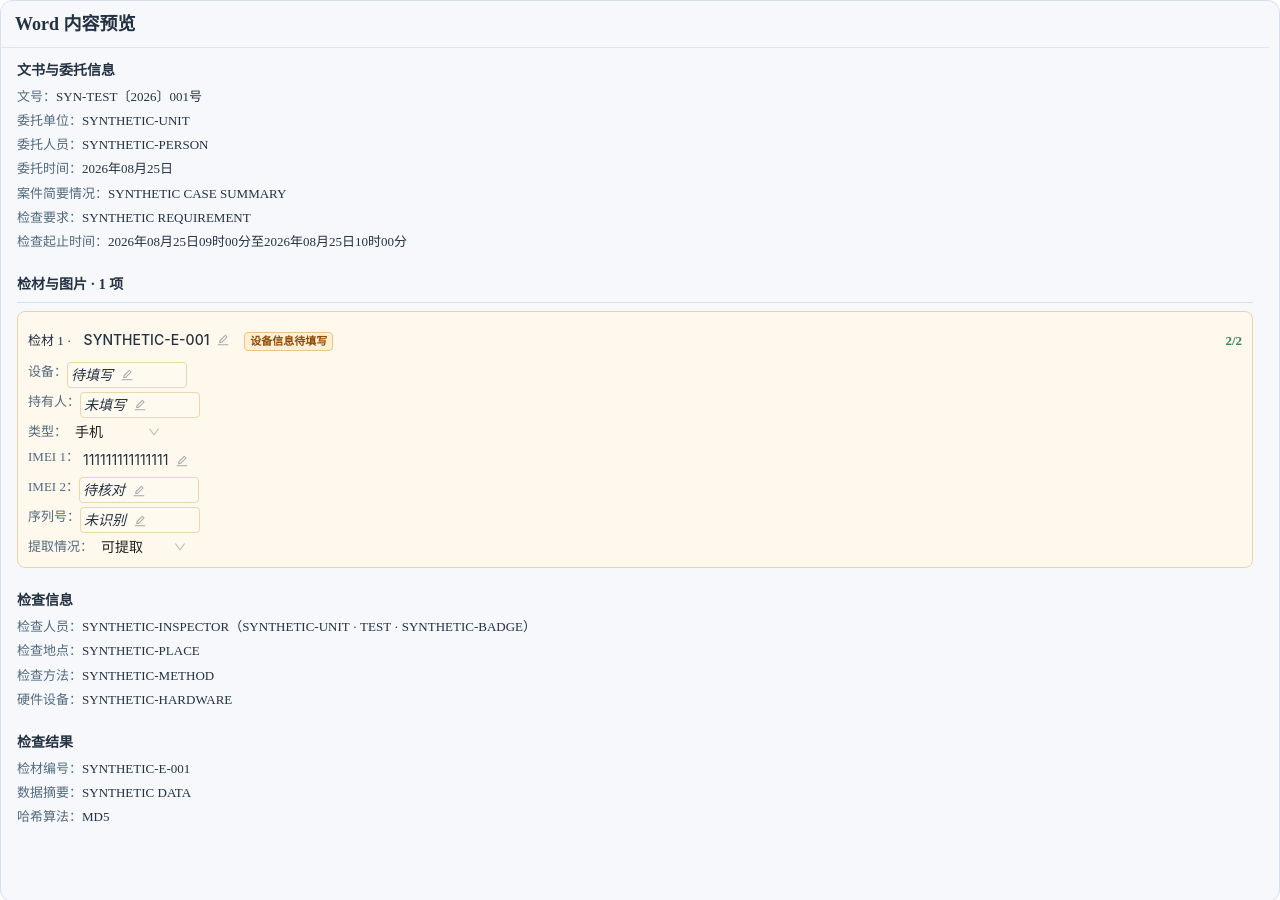
Test: GuidedReviewHistory IMEI grouping › moves an attention material into the complete group as soon as its missing information is filled
Expected: the text "检材信息完整（1项）" is not shown
Expected: the text "设备信息待填写" is shown, [244,332,333,351]
Click the button with aria-label "待填写，按 Enter 编辑". click: click(127, 375)
box: [67,362,187,388]
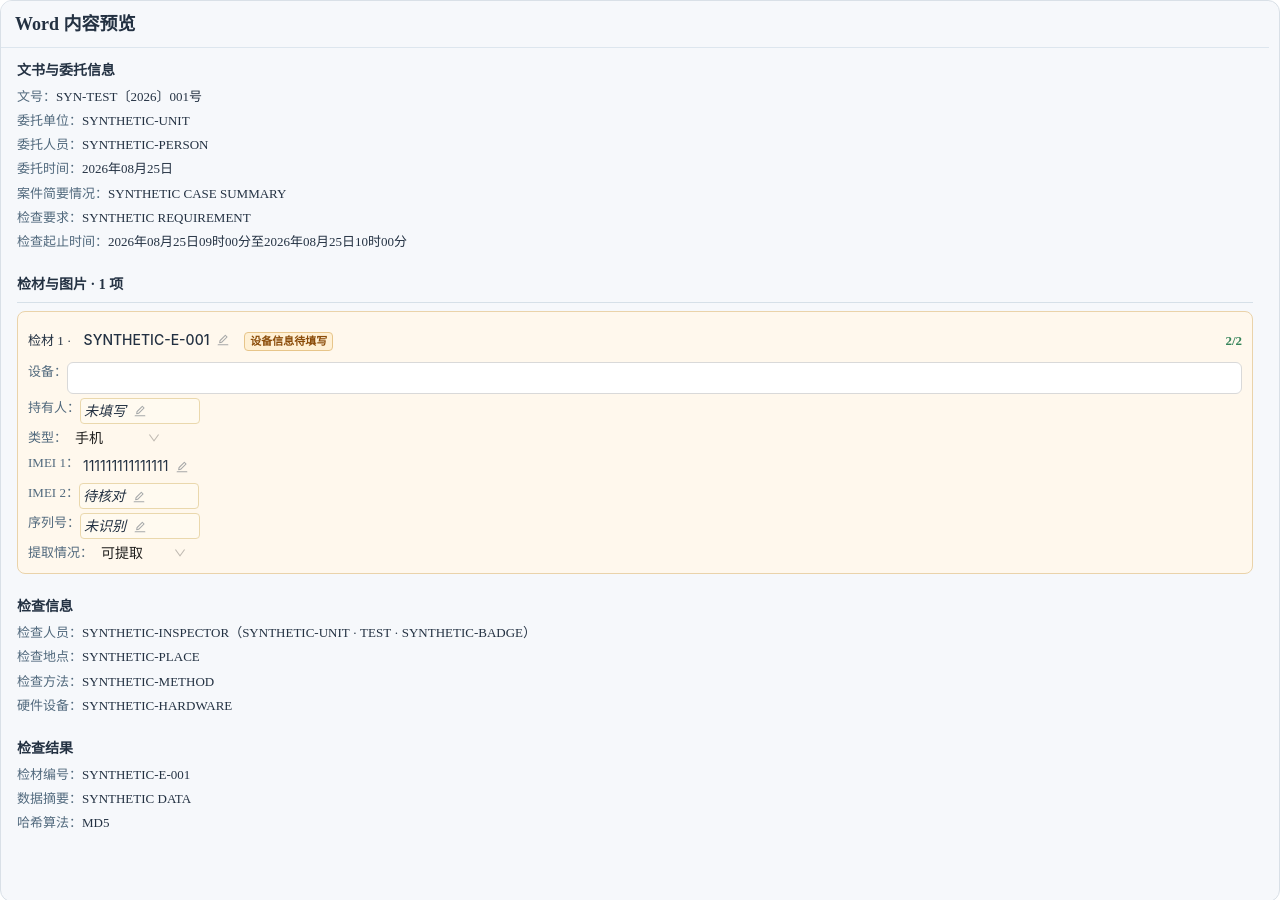
Type "SYNTHETIC Phone" into the field. click: (654, 378)
box: [67,362,1242,394]
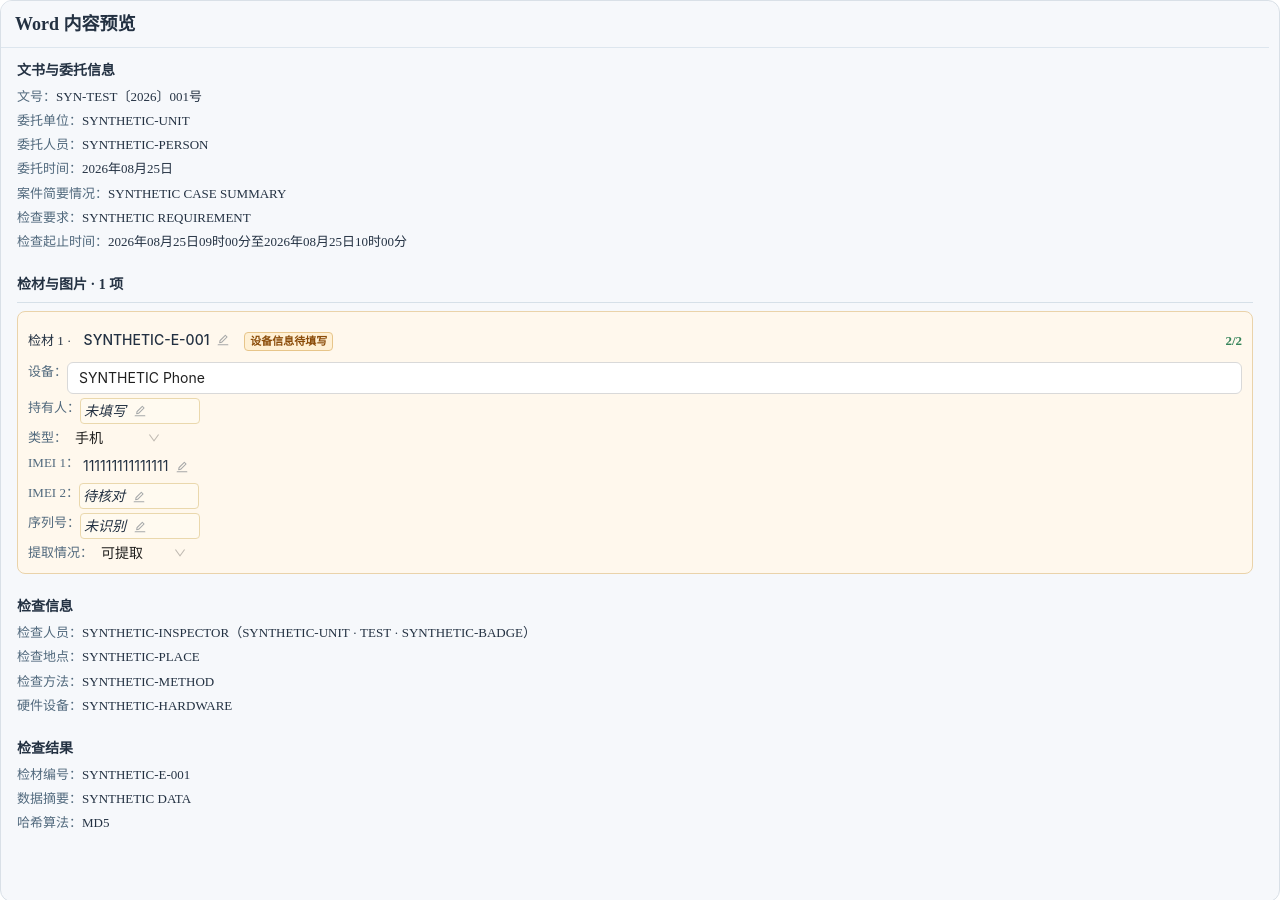
Leave the field, box [67,362,1242,394]
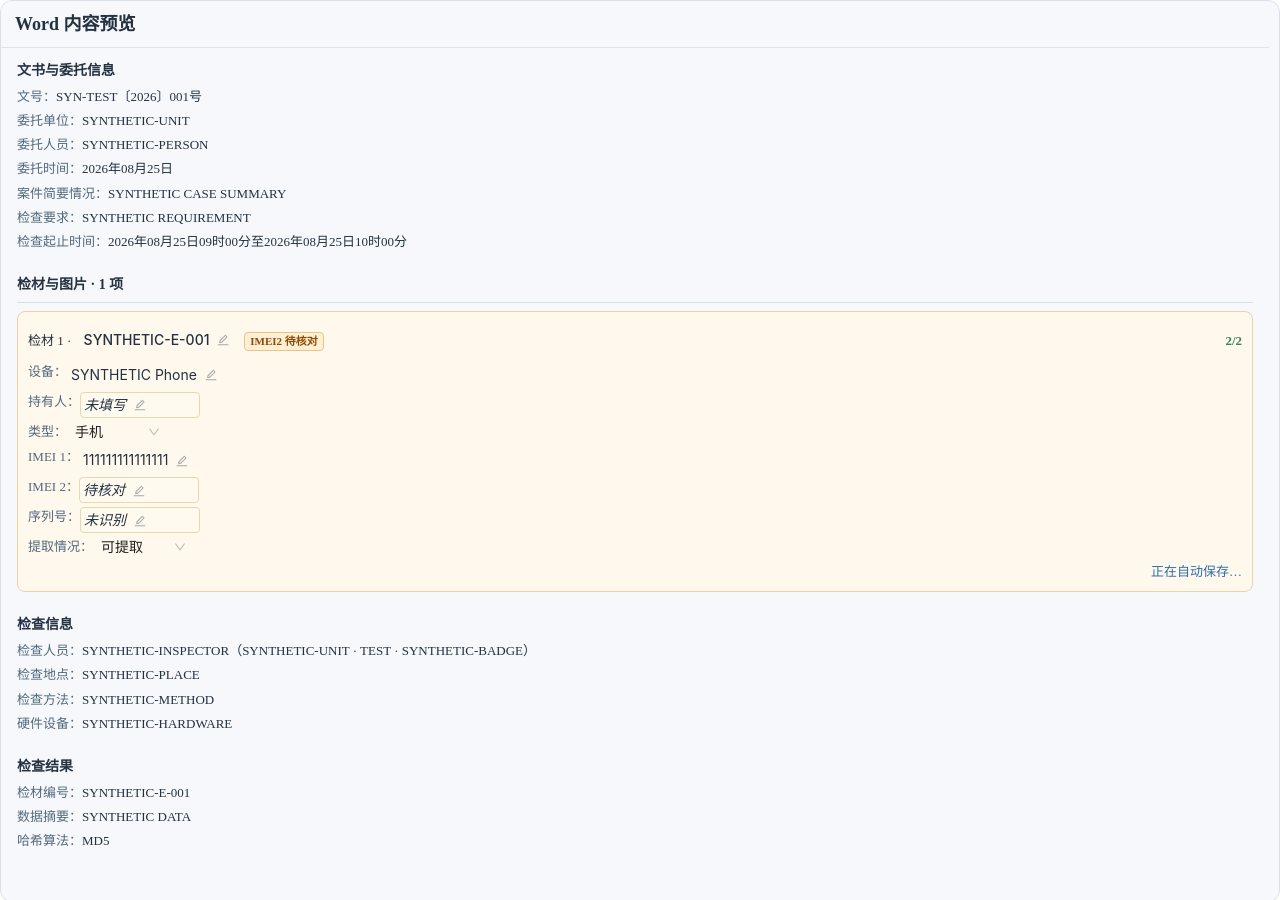
Expected: the text "检材信息完整（1项）" is not shown
Now the text "IMEI2 待核对" is shown, box [244,332,324,351]
Click the button with aria-label "待核对，按 Enter 编辑". click: click(139, 490)
box: [79,477,199,503]
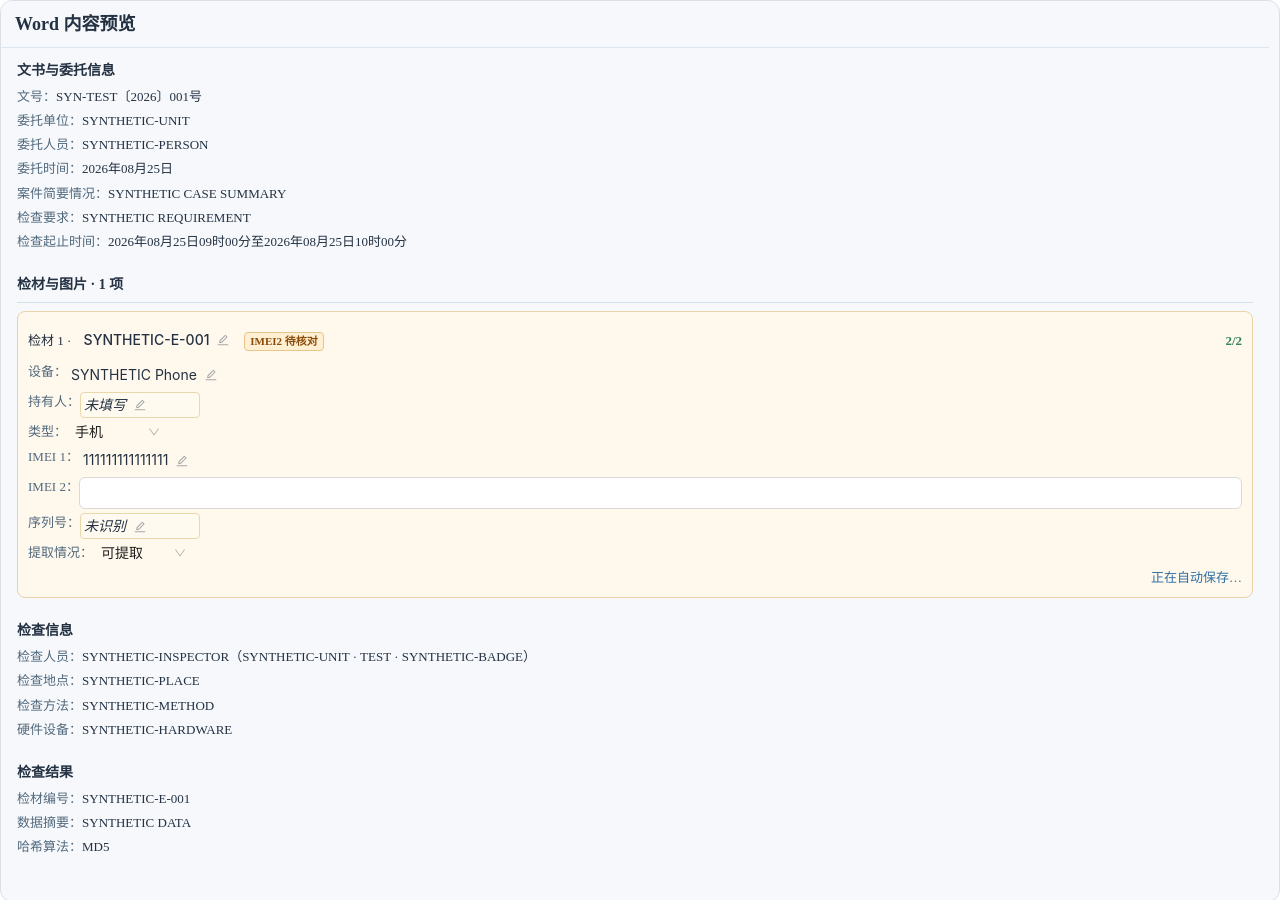
Type "222222222222222" into the field. click: (660, 493)
box: [79,477,1242,509]
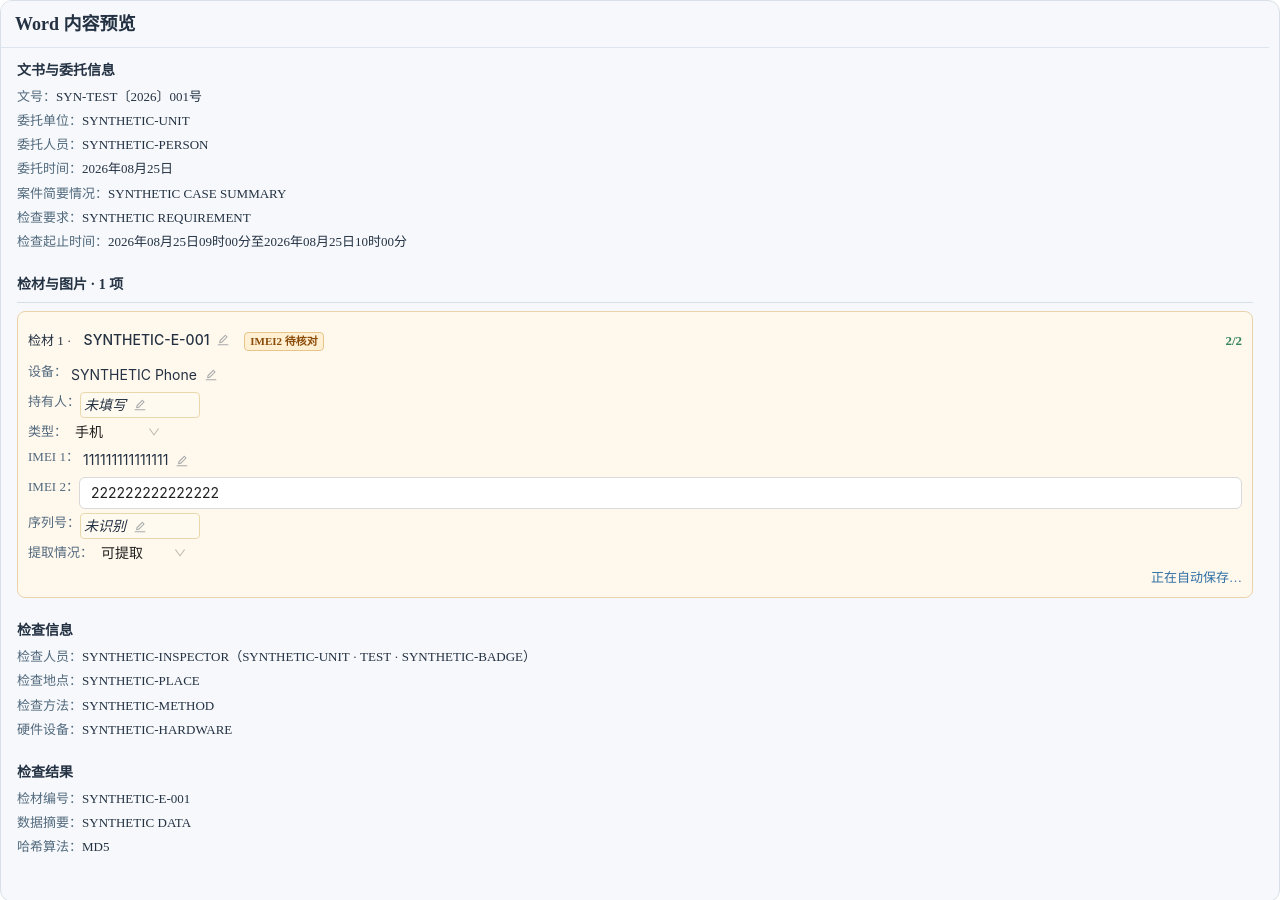
Leave the field, box [79,477,1242,509]
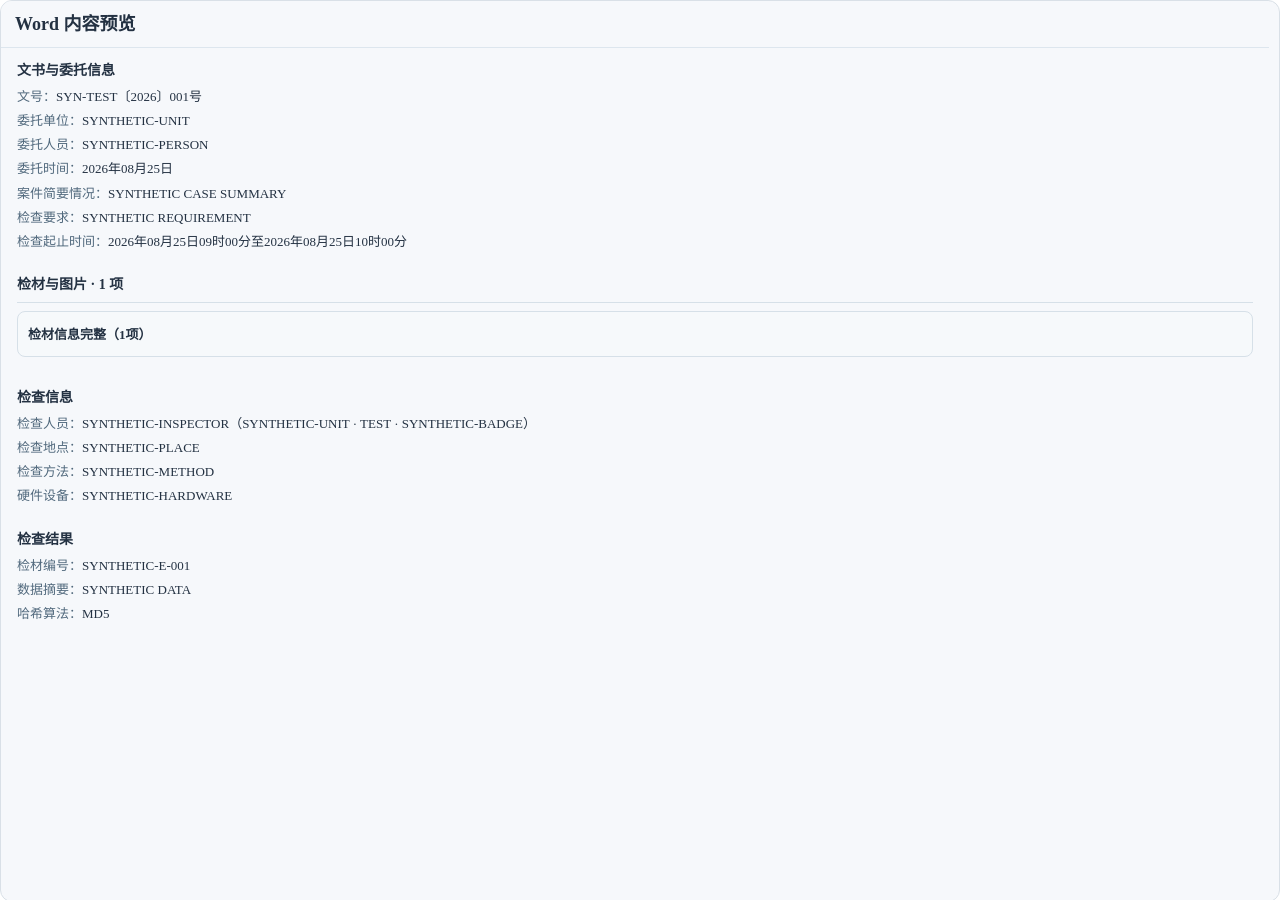
Now the heading "检材信息完整（1项）" is shown, box [28,328,152,342]
Now the text "IMEI2 待核对" is gone
